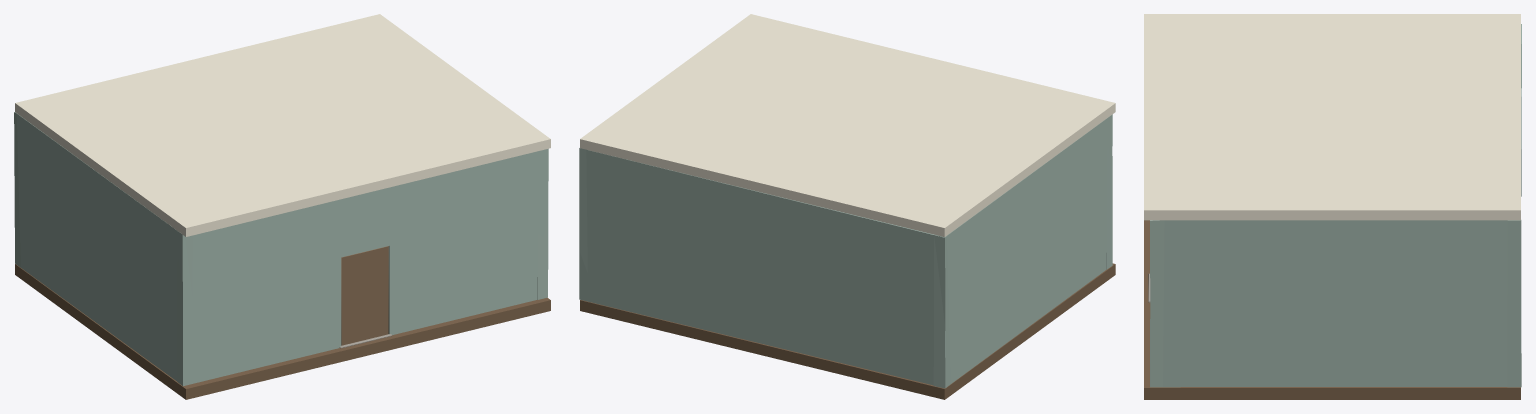
File: int_salon.glb
The picture shows the model from 3 angles, left to right: view 1: azimuth 30°, elevation 25°; view 2: azimuth 150°, elevation 25°; view 3: azimuth 270°, elevation 25°; orthographic projection. The views are drawn at different scales.
Parts seen in each view (by area): view 1: int_salon; view 2: int_salon; view 3: int_salon.
Part boxes in pixels (x1,y1,x2,y2): int_salon: (14, 14, 550, 399); int_salon: (579, 14, 1115, 399); int_salon: (1144, 14, 1521, 399).
Size of what is drawn, in the model's own units: 10.64 by 4.77 by 8.62.
